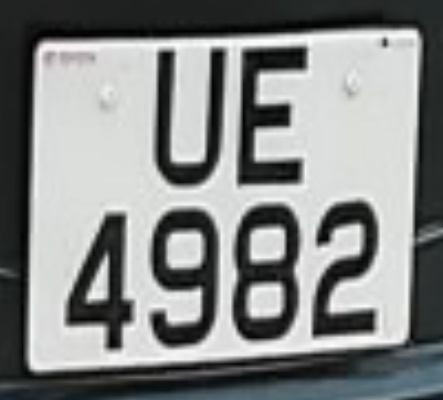2: (304, 184, 395, 347)
4: (53, 195, 142, 365)
8: (224, 193, 312, 353)
9: (137, 200, 224, 358)
E: (225, 30, 317, 201)
U: (136, 38, 230, 203)
